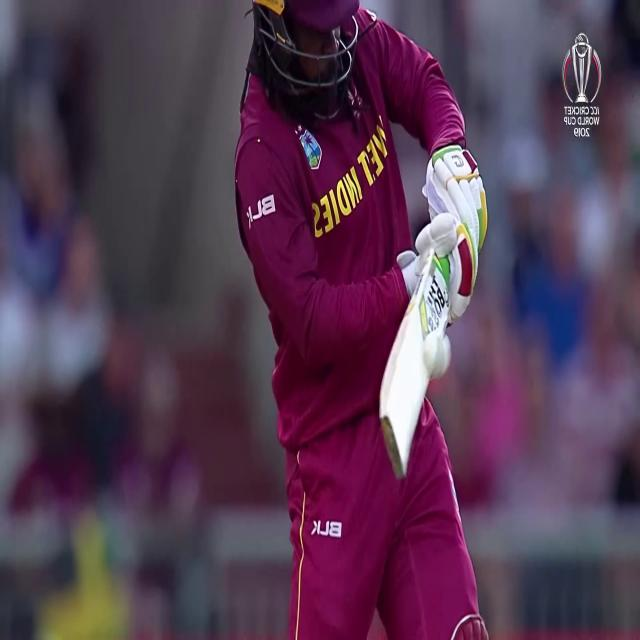ball: (422, 327, 453, 382)
